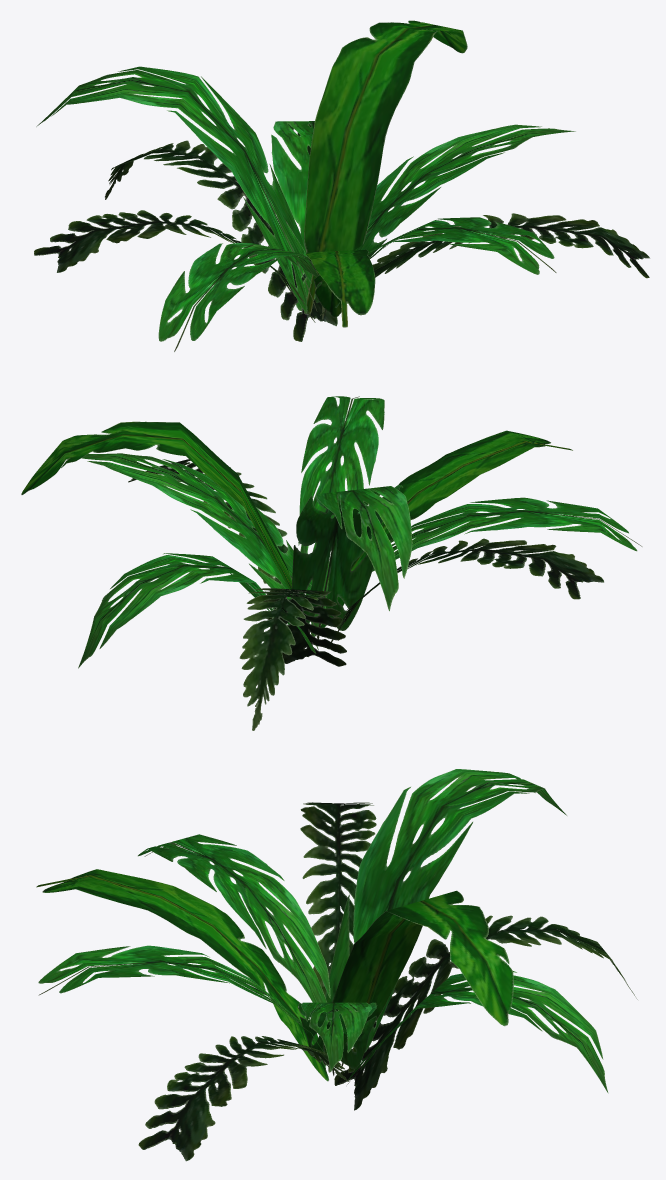
File: obj_tree_01.fbx
3 views of the same model, one above another, from view 1: azimuth 30°, elevation 25°; view 2: azimuth 150°, elevation 25°; view 3: azimuth 270°, elevation 25° (orthographic). The views are drawn at different scales.
Visible parts, largest first — view 1: Plane010; view 2: Plane010; view 3: Plane010.
Boxes of the visible parts, <box> form: Plane010: <box>34,20,650,351</box>; Plane010: <box>21,396,642,730</box>; Plane010: <box>36,769,637,1161</box>.
Bounding box in the file's own units: 58.71 × 24.5 × 55.55.
1 material, 1 textured.
